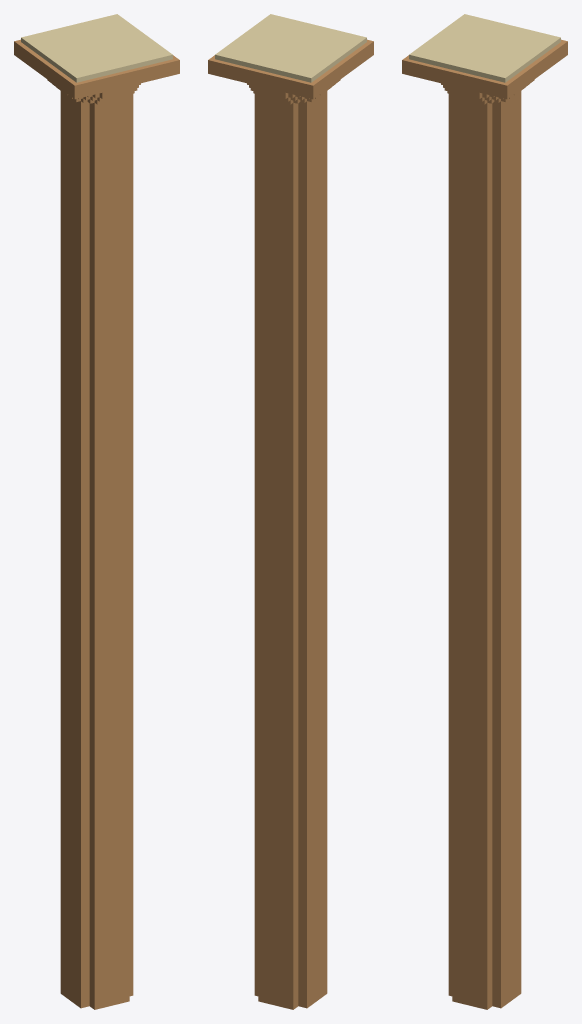
The model's file is column-4.obj.
3 renders of one model, left to right at view 1: azimuth 30°, elevation 25°; view 2: azimuth 150°, elevation 25°; view 3: azimuth 330°, elevation 25°, orthographic.
Bounding box in the file's own units: 2.4 × 20.7 × 2.4.
Materials: 1 (1 with a texture image).
